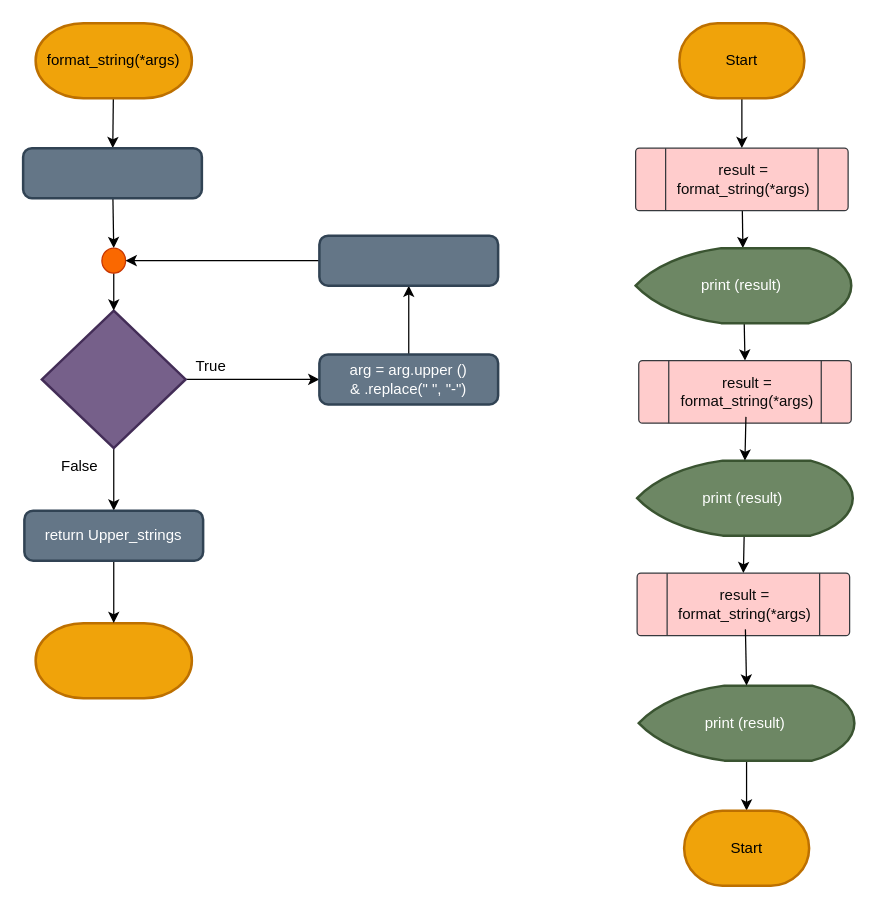
The diagram is 876 pixels wide and 908 high, and some of its shapes have lost their labels. Here are the shapes that lost their labels. From the top down, the centre of each, then its label:
At point (111, 172): "Create empty Upper_strings".
At point (408, 260): "Upper_strings += arg".
At point (113, 379): "for each arg in args".
At point (113, 660): "Stop".
